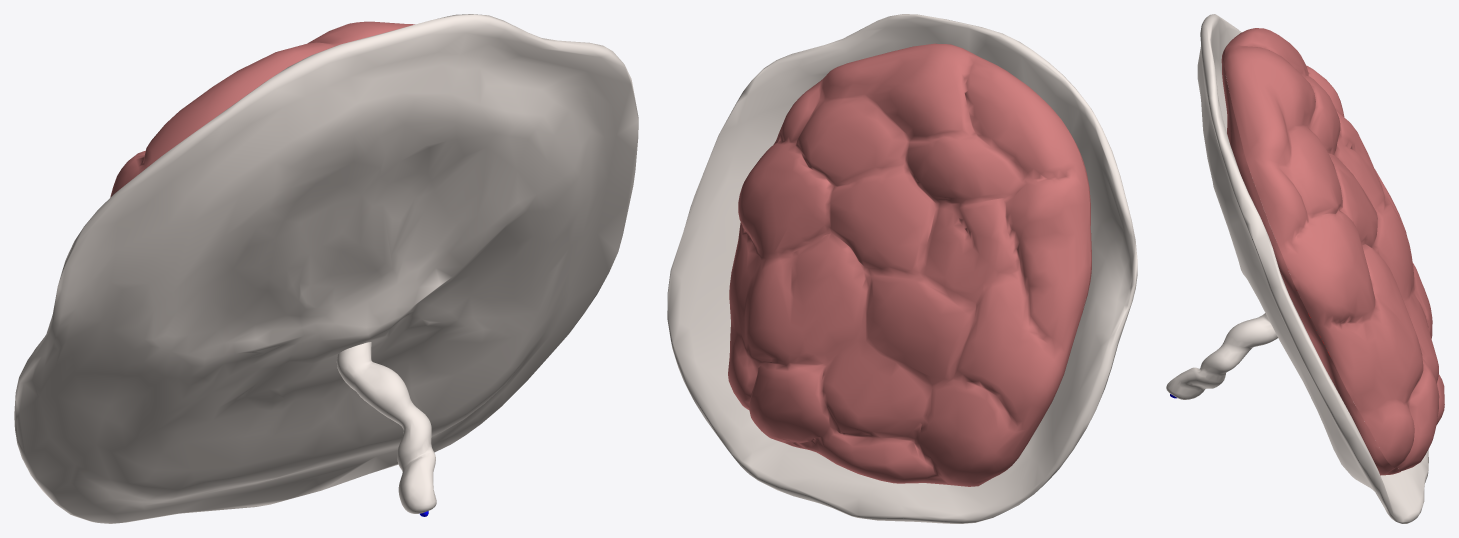
File: vh_f_placenta.glb
The picture shows the model from 3 angles, left to right: view 1: azimuth 30°, elevation 25°; view 2: azimuth 150°, elevation 25°; view 3: azimuth 270°, elevation 25°; orthographic projection. The views are drawn at different scales.
Visible parts, largest first — view 1: VH_F_amnion, VH_F_basal_plate, VH_F_umbilical_cord; view 2: VH_F_basal_plate, VH_F_amnion; view 3: VH_F_basal_plate, VH_F_amnion, VH_F_chorionic_plate, VH_F_umbilical_cord.
Boxes of the visible parts, x1,y1,x2,y2 form: VH_F_amnion: (14,14,638,523); VH_F_basal_plate: (110,21,414,197); VH_F_umbilical_cord: (336,342,436,513); VH_F_basal_plate: (728,43,1090,486); VH_F_amnion: (667,14,1137,523); VH_F_basal_plate: (1224,28,1444,471); VH_F_amnion: (1197,14,1428,523); VH_F_chorionic_plate: (1221,46,1400,475); VH_F_umbilical_cord: (1166,313,1277,399).
Size of the model in its own units: 0.251 by 0.2307 by 0.1338.
